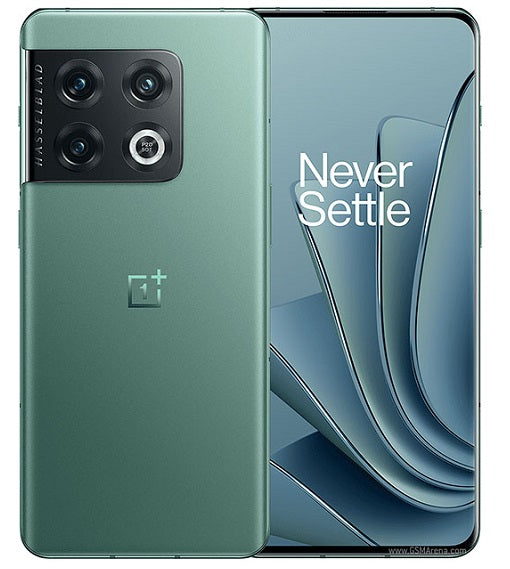phones: (10, 6, 272, 566), (249, 1, 483, 545)
